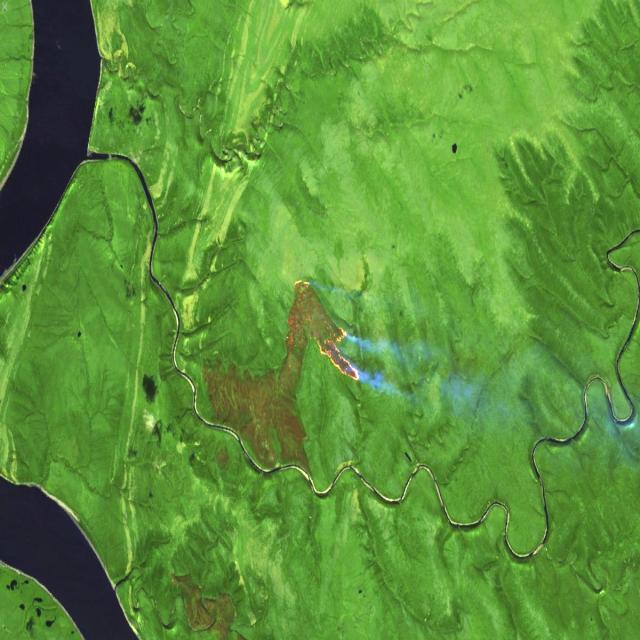fire: (286, 276, 364, 384)
